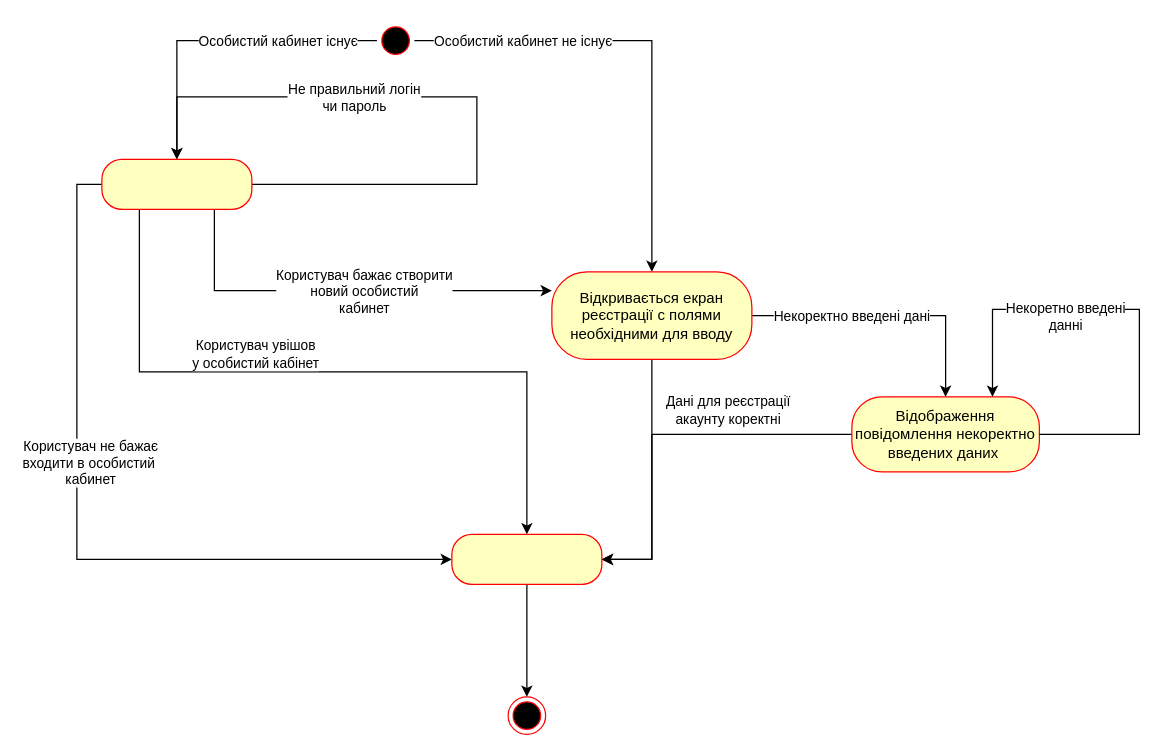
Image size: 1171x756. Some labels were removed from this diagram. Each missing label, with the box of its shape:
Відкривається головна сторінка: (451, 533, 602, 584)
Користувач водить логін та пароль: (101, 158, 252, 209)
